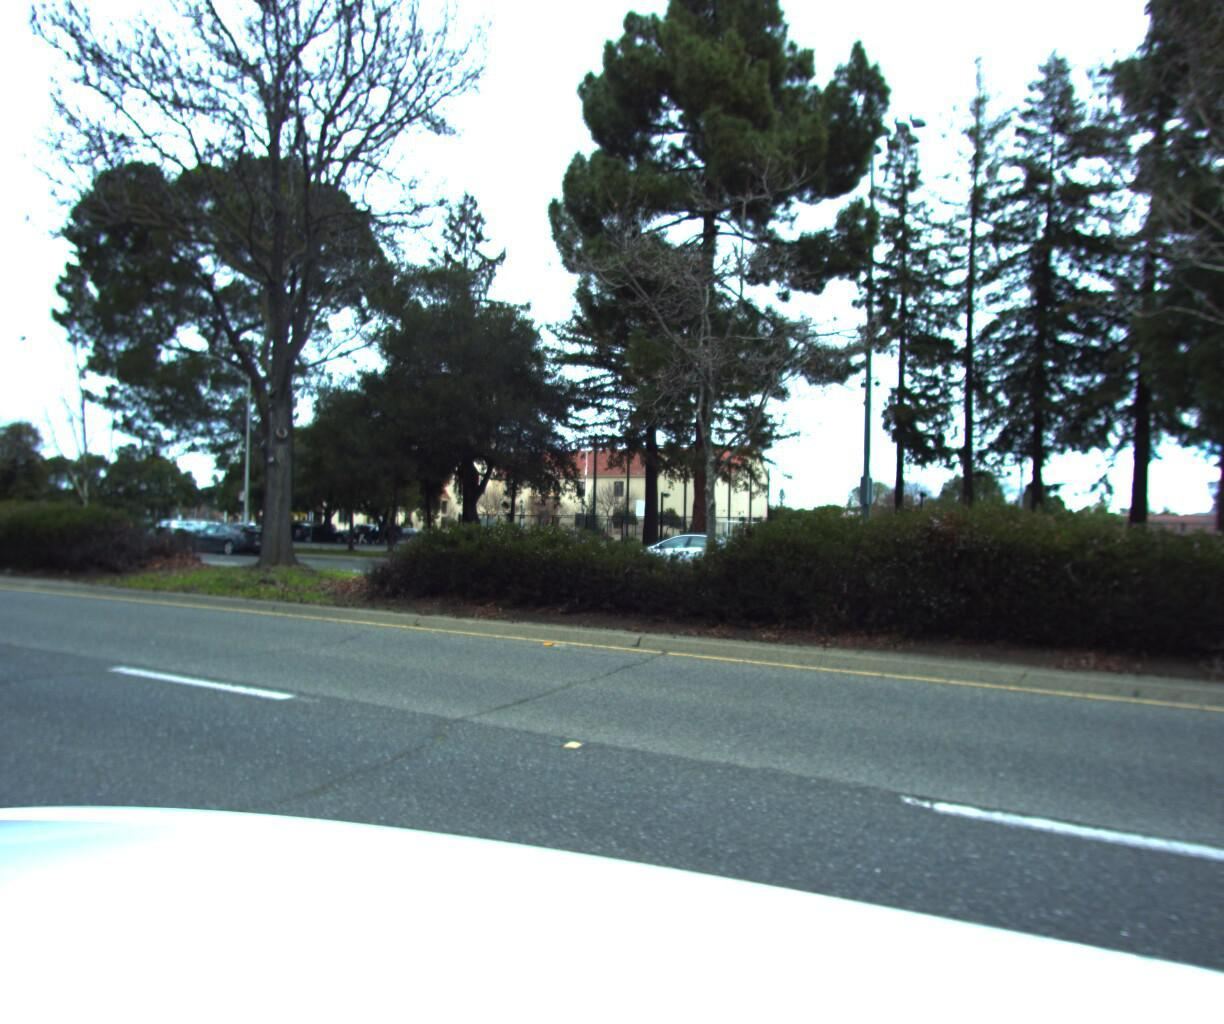car: (609, 525, 766, 578), (174, 516, 276, 552)
